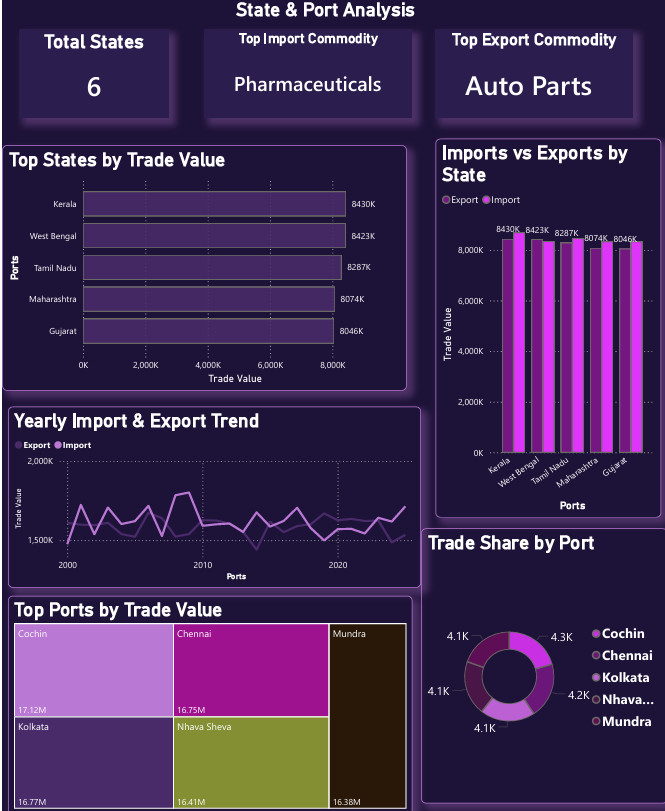

The dashboard page shown, as its layout file describes it:
{"tool":"powerbi","page":{"name":"Page 5","canvas":[928,1140],"ordinal":4},"visuals":[{"type":"cardVisual","title":"Total States","fields":{"Data":["Count(india_trade_analysis_country_india_2000_2025.State)"]},"box":[24,44,208,124],"z":0},{"type":"cardVisual","title":"Top Import Commodity","fields":{"Data":["india_trade_analysis_country_india_2000_2025.Top Import Commodity"]},"box":[282,44,290,124],"z":1000},{"type":"cardVisual","title":"Top Export Commodity","fields":{"Data":["india_trade_analysis_country_india_2000_2025.Top Export Commodity"]},"box":[604,44,276,124],"z":2000},{"type":"clusteredColumnChart","title":"Imports vs Exports by State","fields":{"Category":["india_trade_analysis_country_india_2000_2025.State"],"Y":["Sum(india_trade_analysis_country_india_2000_2025.Trade_Value_USD_Mn)"],"Series":["india_trade_analysis_country_india_2000_2025.Trade_Type"]},"box":[603.8,196.2,315,528.8],"z":3000},{"type":"lineChart","title":"Yearly Import & Export Trend","fields":{"Y":["Sum(india_trade_analysis_country_india_2000_2025.Trade_Value_USD_Mn)"],"Series":["india_trade_analysis_country_india_2000_2025.Trade_Type"],"Category":["india_trade_analysis_country_india_2000_2025.Year"]},"box":[7.5,570,576.2,252.5],"z":4000},{"type":"treemap","title":"Top Ports by Trade Value","fields":{"Group":["india_trade_analysis_country_india_2000_2025.Indian_Port"],"Values":["Sum(india_trade_analysis_country_india_2000_2025.Trade_Value_USD_Mn)"]},"box":[8,834,564,306],"z":5000},{"type":"donutChart","title":"Trade Share by Port ","fields":{"Y":["CountNonNull(india_trade_analysis_country_india_2000_2025.Commodity)"],"Category":["india_trade_analysis_country_india_2000_2025.Indian_Port"]},"box":[584,740,344,384],"z":6000},{"type":"shape","title":"State & Port  Analysis","box":[0,0,902,32],"z":7000},{"type":"clusteredBarChart","title":"Top States by Trade Value","fields":{"Category":["india_trade_analysis_country_india_2000_2025.State"],"Y":["Sum(india_trade_analysis_country_india_2000_2025.Trade_Value_USD_Mn)"]},"box":[0,205,563.8,342.5],"z":8000}]}

Visuals, with their boxes in screenshot pixels (x1, y1, x2, y2), scaled from the page's 928x1140 canvas onto the 665x811 screenshot:
"Total States" cardVisual: region(17, 31, 166, 120)
"Top Import Commodity" cardVisual: region(202, 31, 410, 120)
"Top Export Commodity" cardVisual: region(433, 31, 631, 120)
"Imports vs Exports by State" clusteredColumnChart: region(433, 140, 658, 516)
"Yearly Import & Export Trend" lineChart: region(5, 406, 418, 585)
"Top Ports by Trade Value" treemap: region(6, 593, 410, 810)
"Trade Share by Port " donutChart: region(418, 526, 664, 800)
"State & Port  Analysis" shape: region(0, 0, 646, 23)
"Top States by Trade Value" clusteredBarChart: region(0, 146, 404, 389)
